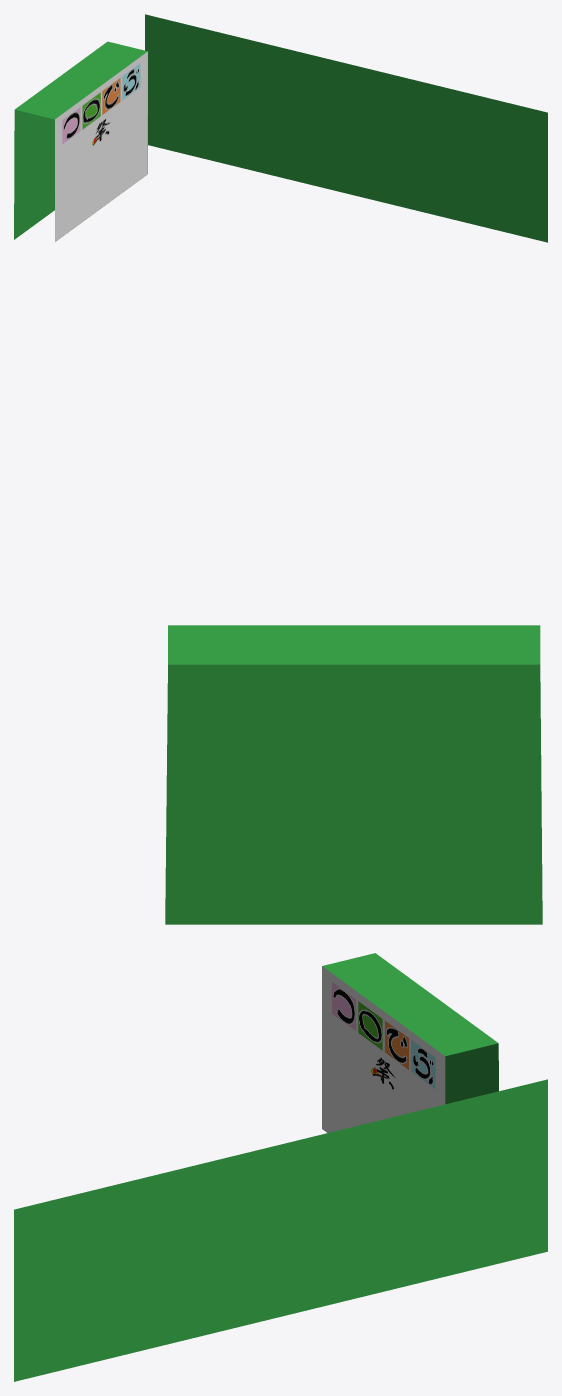
File: Goal_Wall2.fbx
3 views of the same model, one above another, from view 1: azimuth 30°, elevation 25°; view 2: azimuth 150°, elevation 25°; view 3: azimuth 270°, elevation 25° (orthographic). The views are drawn at different scales.
Visible parts, largest first — view 1: polySurface119; view 2: polySurface119; view 3: polySurface119.
Part boxes in pixels (x1,y1,x2,y2): polySurface119: (14, 14, 547, 242); polySurface119: (165, 625, 542, 924); polySurface119: (14, 953, 547, 1381).
Bounding box in the file's own units: 24.67 × 7.71 × 21.65.
1 material, 1 textured.
